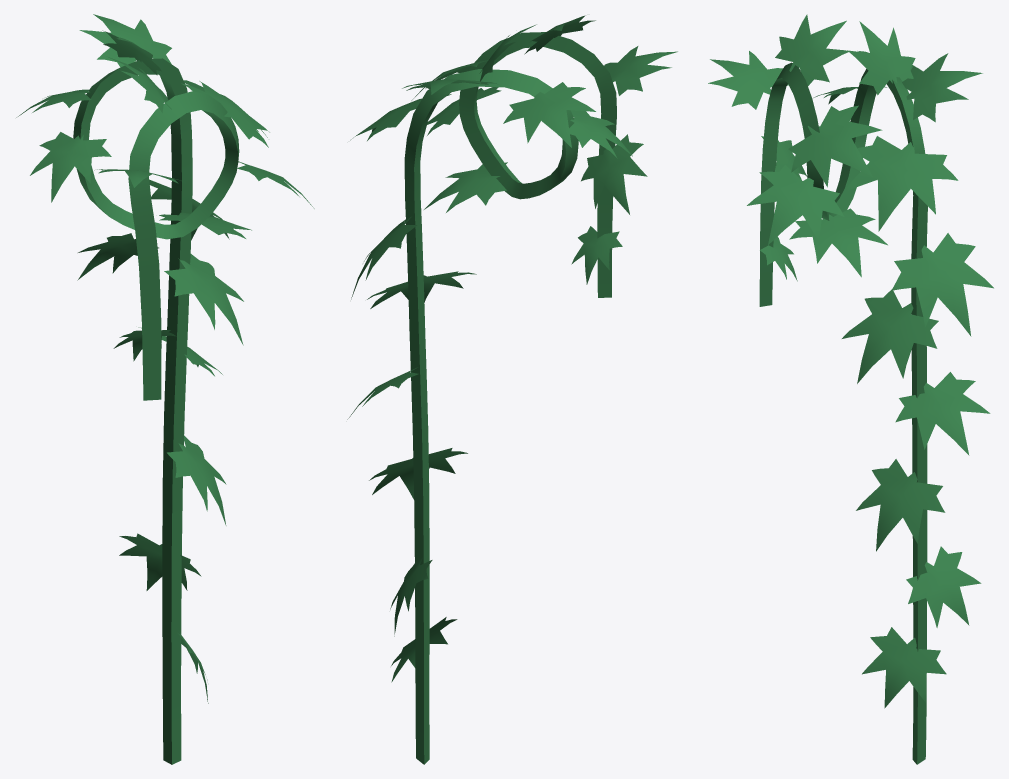
File: vine_L_alangium.fbx
3 renders of one model, left to right at view 1: azimuth 30°, elevation 25°; view 2: azimuth 150°, elevation 25°; view 3: azimuth 270°, elevation 25°, orthographic. The views are drawn at different scales.
Parts seen in each view (by area): view 1: vine_L_alangium_root, vine_L_alangium_A_leaf_B34, vine_L_alangium_A_leaf_B35, vine_L_alangium_A_leaf_B31, vine_L_alangium_A_leaf_B39, vine_L_alangium_A_leaf_B29, vine_L_alangium_A_leaf_B, vine_L_alangium_A_leaf_B38, vine_L_alangium_A_leaf_B44, vine_L_alangium_A_leaf_B46, vine_L_alangium_A_leaf_B40, vine_L_alangium_A_leaf_B36; view 2: vine_L_alangium_root, vine_L_alangium_A_leaf_B36, vine_L_alangium_A_leaf_B, vine_L_alangium_A_leaf_B40, vine_L_alangium_A_leaf_B33, vine_L_alangium_A_leaf_B31, vine_L_alangium_A_leaf_B35, vine_L_alangium_A_leaf_B37, vine_L_alangium_A_leaf_B34, vine_L_alangium_A_leaf_B30, vine_L_alangium_A_leaf_B29, vine_L_alangium_A_leaf_B43 (+3 smaller); view 3: vine_L_alangium_root, vine_L_alangium_A_leaf_B45, vine_L_alangium_A_leaf_B30, vine_L_alangium_A_leaf_B34, vine_L_alangium_A_leaf_B31, vine_L_alangium_A_leaf_B42, vine_L_alangium_A_leaf_B32, vine_L_alangium_A_leaf_B38, vine_L_alangium_A_leaf_B43, vine_L_alangium_A_leaf_B29, vine_L_alangium_A_leaf_B40, vine_L_alangium_A_leaf_B46 (+5 smaller).
Part boxes in pixels (x1=…): vine_L_alangium_root: x1=73, y1=58, x2=239, y2=764; vine_L_alangium_A_leaf_B34: x1=164, y1=254, x2=243, y2=345; vine_L_alangium_A_leaf_B35: x1=30, y1=132, x2=111, y2=202; vine_L_alangium_A_leaf_B31: x1=167, y1=435, x2=226, y2=525; vine_L_alangium_A_leaf_B39: x1=79, y1=14, x2=171, y2=67; vine_L_alangium_A_leaf_B29: x1=119, y1=533, x2=201, y2=590; vine_L_alangium_A_leaf_B: x1=77, y1=233, x2=158, y2=280; vine_L_alangium_A_leaf_B38: x1=182, y1=81, x2=269, y2=147; vine_L_alangium_A_leaf_B44: x1=102, y1=30, x2=162, y2=75; vine_L_alangium_A_leaf_B46: x1=108, y1=57, x2=171, y2=112; vine_L_alangium_A_leaf_B40: x1=159, y1=212, x2=251, y2=238; vine_L_alangium_A_leaf_B36: x1=16, y1=89, x2=91, y2=117; vine_L_alangium_root: x1=404, y1=32, x2=616, y2=764; vine_L_alangium_A_leaf_B36: x1=503, y1=82, x2=595, y2=147; vine_L_alangium_A_leaf_B: x1=581, y1=134, x2=647, y2=214; vine_L_alangium_A_leaf_B40: x1=424, y1=162, x2=507, y2=212; vine_L_alangium_A_leaf_B33: x1=604, y1=46, x2=677, y2=95; vine_L_alangium_A_leaf_B31: x1=369, y1=448, x2=467, y2=499; vine_L_alangium_A_leaf_B35: x1=569, y1=110, x2=632, y2=158; vine_L_alangium_A_leaf_B37: x1=571, y1=226, x2=622, y2=284; vine_L_alangium_A_leaf_B34: x1=367, y1=271, x2=476, y2=308; vine_L_alangium_A_leaf_B30: x1=351, y1=216, x2=417, y2=299; vine_L_alangium_A_leaf_B29: x1=390, y1=558, x2=432, y2=636; vine_L_alangium_A_leaf_B43: x1=391, y1=617, x2=457, y2=682; vine_L_alangium_root: x1=759, y1=62, x2=927, y2=764; vine_L_alangium_A_leaf_B45: x1=844, y1=136, x2=958, y2=231; vine_L_alangium_A_leaf_B30: x1=891, y1=233, x2=993, y2=336; vine_L_alangium_A_leaf_B34: x1=842, y1=289, x2=938, y2=383; vine_L_alangium_A_leaf_B31: x1=856, y1=459, x2=945, y2=551; vine_L_alangium_A_leaf_B42: x1=895, y1=372, x2=990, y2=455; vine_L_alangium_A_leaf_B32: x1=747, y1=165, x2=844, y2=244; vine_L_alangium_A_leaf_B38: x1=788, y1=105, x2=882, y2=187; vine_L_alangium_A_leaf_B43: x1=862, y1=627, x2=946, y2=708; vine_L_alangium_A_leaf_B29: x1=906, y1=546, x2=981, y2=627; vine_L_alangium_A_leaf_B40: x1=789, y1=208, x2=887, y2=277; vine_L_alangium_A_leaf_B46: x1=775, y1=14, x2=848, y2=85.
Size of the model in its own units: 67.16 by 197 by 73.35.
